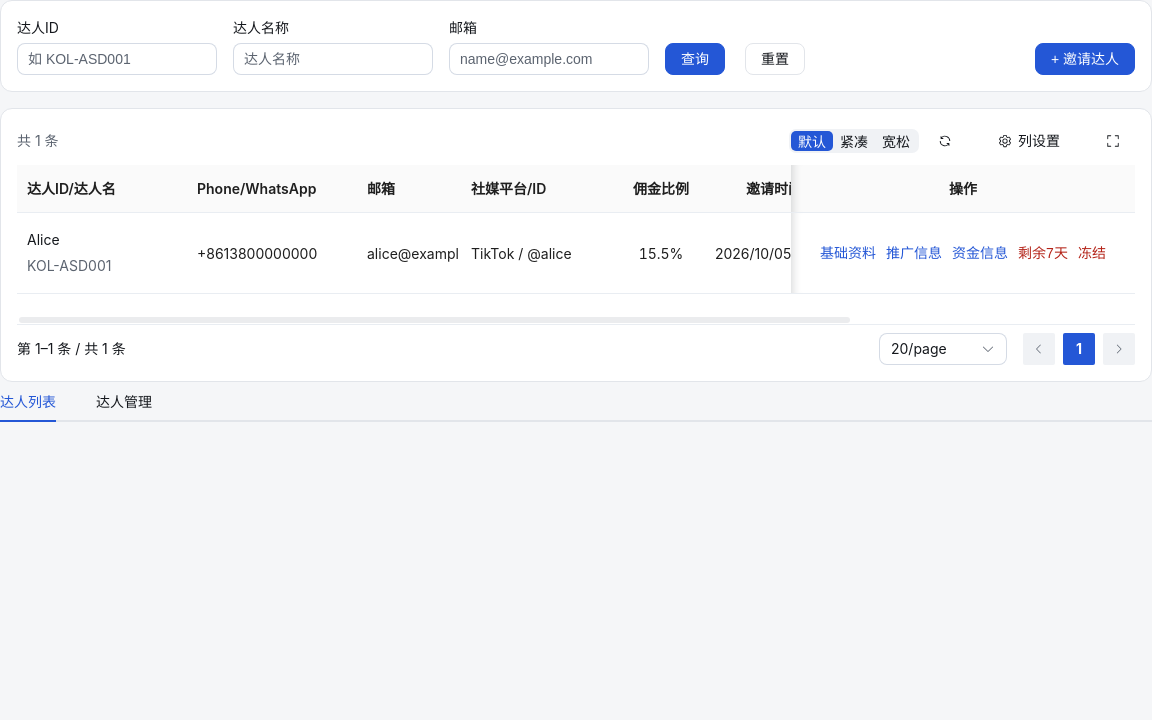
Scenario: creator list page (task 32 §2.2) › opens the commission dialog from the approved row
Step 1. Click the button "推广信息" → x=914, y=253, box x1=885 y1=241 x2=943 y2=265
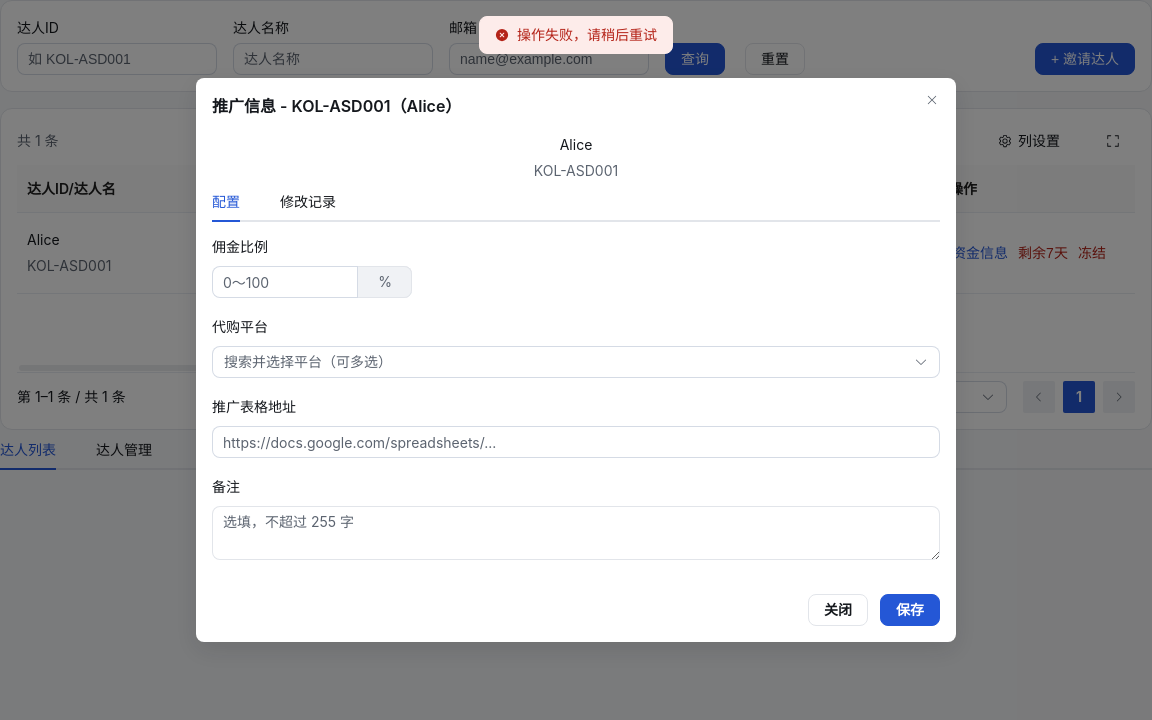
Expected: the text "推广信息 - KOL-ASD001" is shown, x1=212 y1=96 x2=461 y2=116
